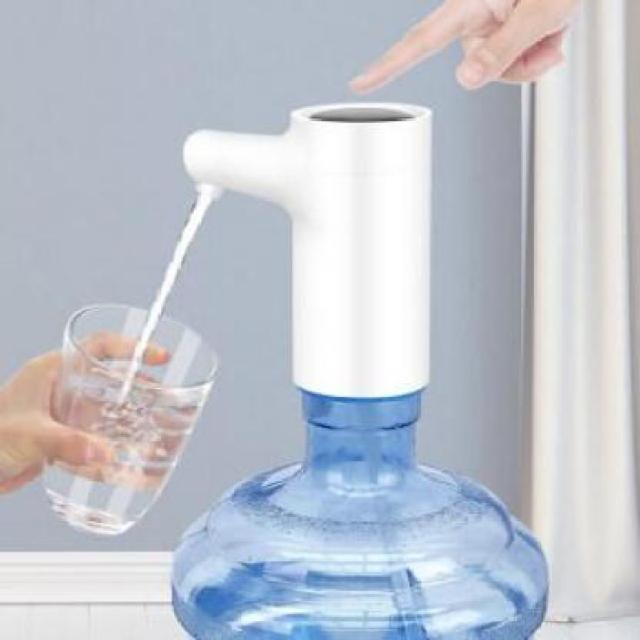cooler: (164, 101, 547, 640)
